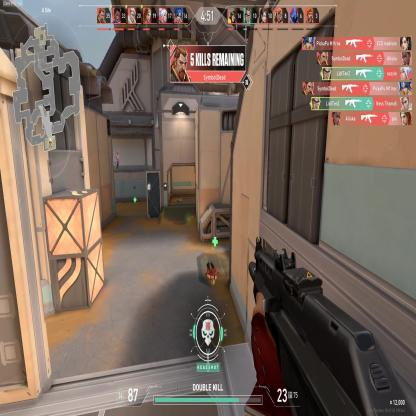enemy: (115, 150, 119, 172)
